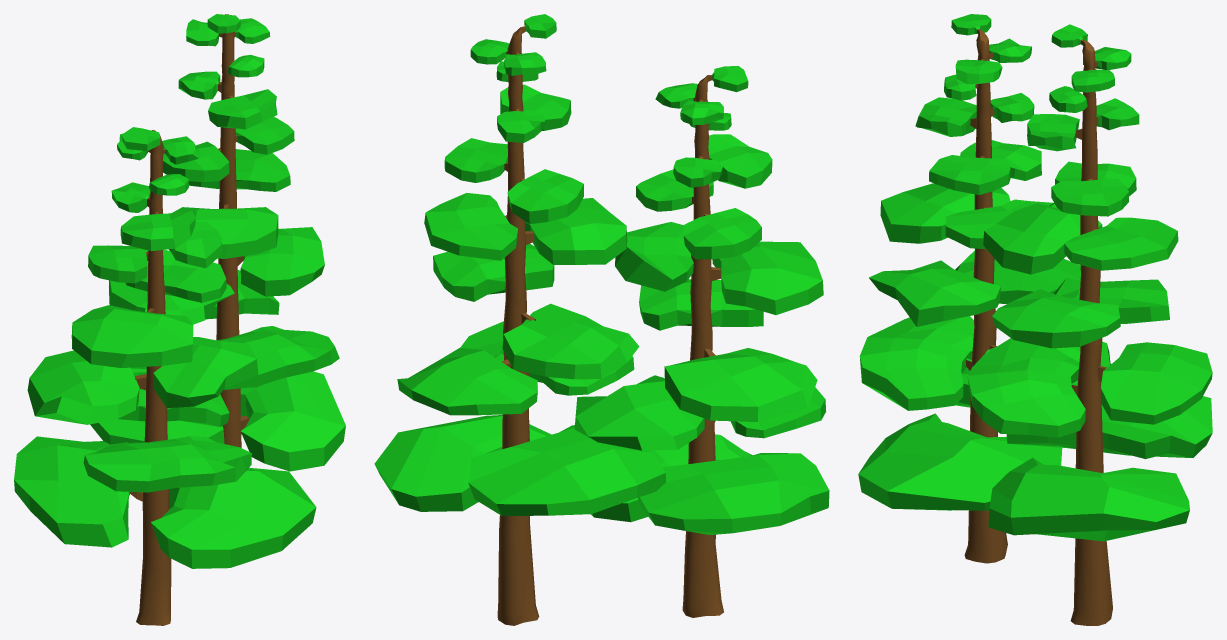
The model's file is baum_d003.FBX.
The picture shows the model from 3 angles, left to right: view 1: azimuth 30°, elevation 25°; view 2: azimuth 150°, elevation 25°; view 3: azimuth 270°, elevation 25°; orthographic projection. The views are drawn at different scales.
Visible parts, largest first — view 1: Baum_D003; view 2: Baum_D003; view 3: Baum_D003.
Part boxes in pixels (x1,y1,x2,y2): Baum_D003: [14, 14, 345, 625]; Baum_D003: [374, 14, 829, 625]; Baum_D003: [858, 14, 1212, 625].
Bounding box in the file's own units: 41.07 × 63.52 × 35.13.
